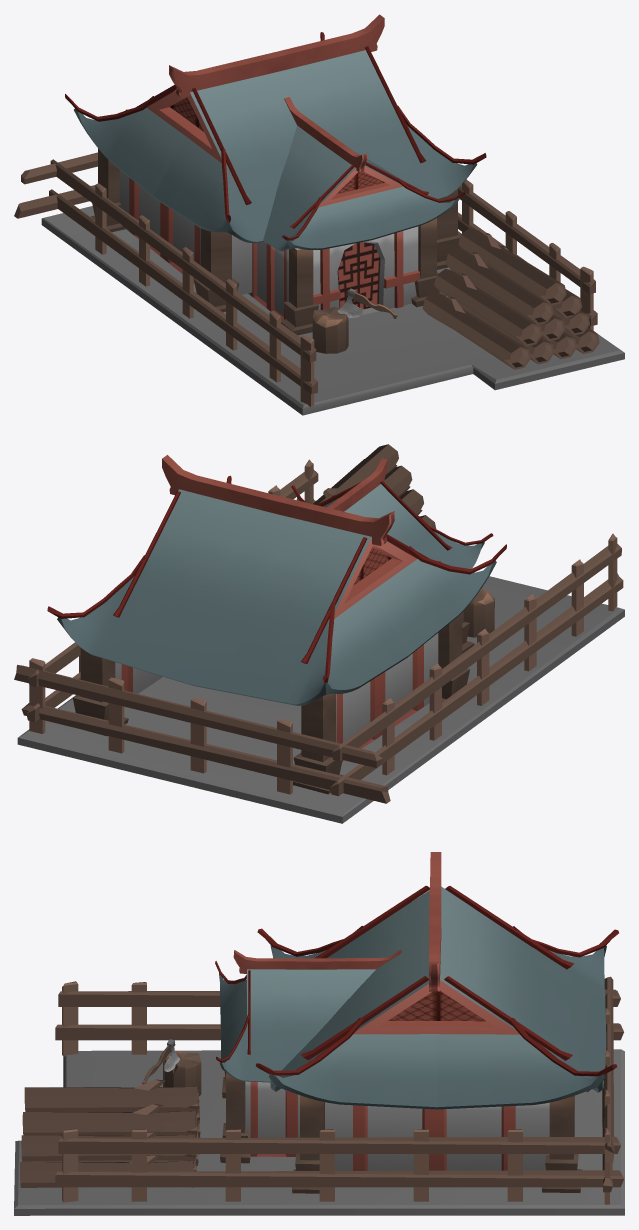
File: sawmill_3lvl_2ver.fbx
The picture shows the model from 3 angles, top to bottom: view 1: azimuth 30°, elevation 25°; view 2: azimuth 150°, elevation 25°; view 3: azimuth 270°, elevation 25°; orthographic projection. The views are drawn at different scales.
Parts seen in each view (by area): view 1: sawmill_3lvl_ver2; view 2: sawmill_3lvl_ver2; view 3: sawmill_3lvl_ver2.
Boxes of the visible parts, box(x1,y1,x2,y2) form: sawmill_3lvl_ver2: box(14, 14, 624, 415); sawmill_3lvl_ver2: box(14, 444, 624, 823); sawmill_3lvl_ver2: box(14, 852, 624, 1215).
Bounding box in the file's own units: 4.54 × 2.69 × 6.52.
